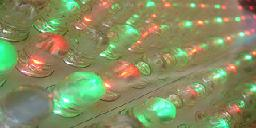LED: (52, 69, 104, 116), (19, 32, 71, 79), (130, 93, 177, 128)
